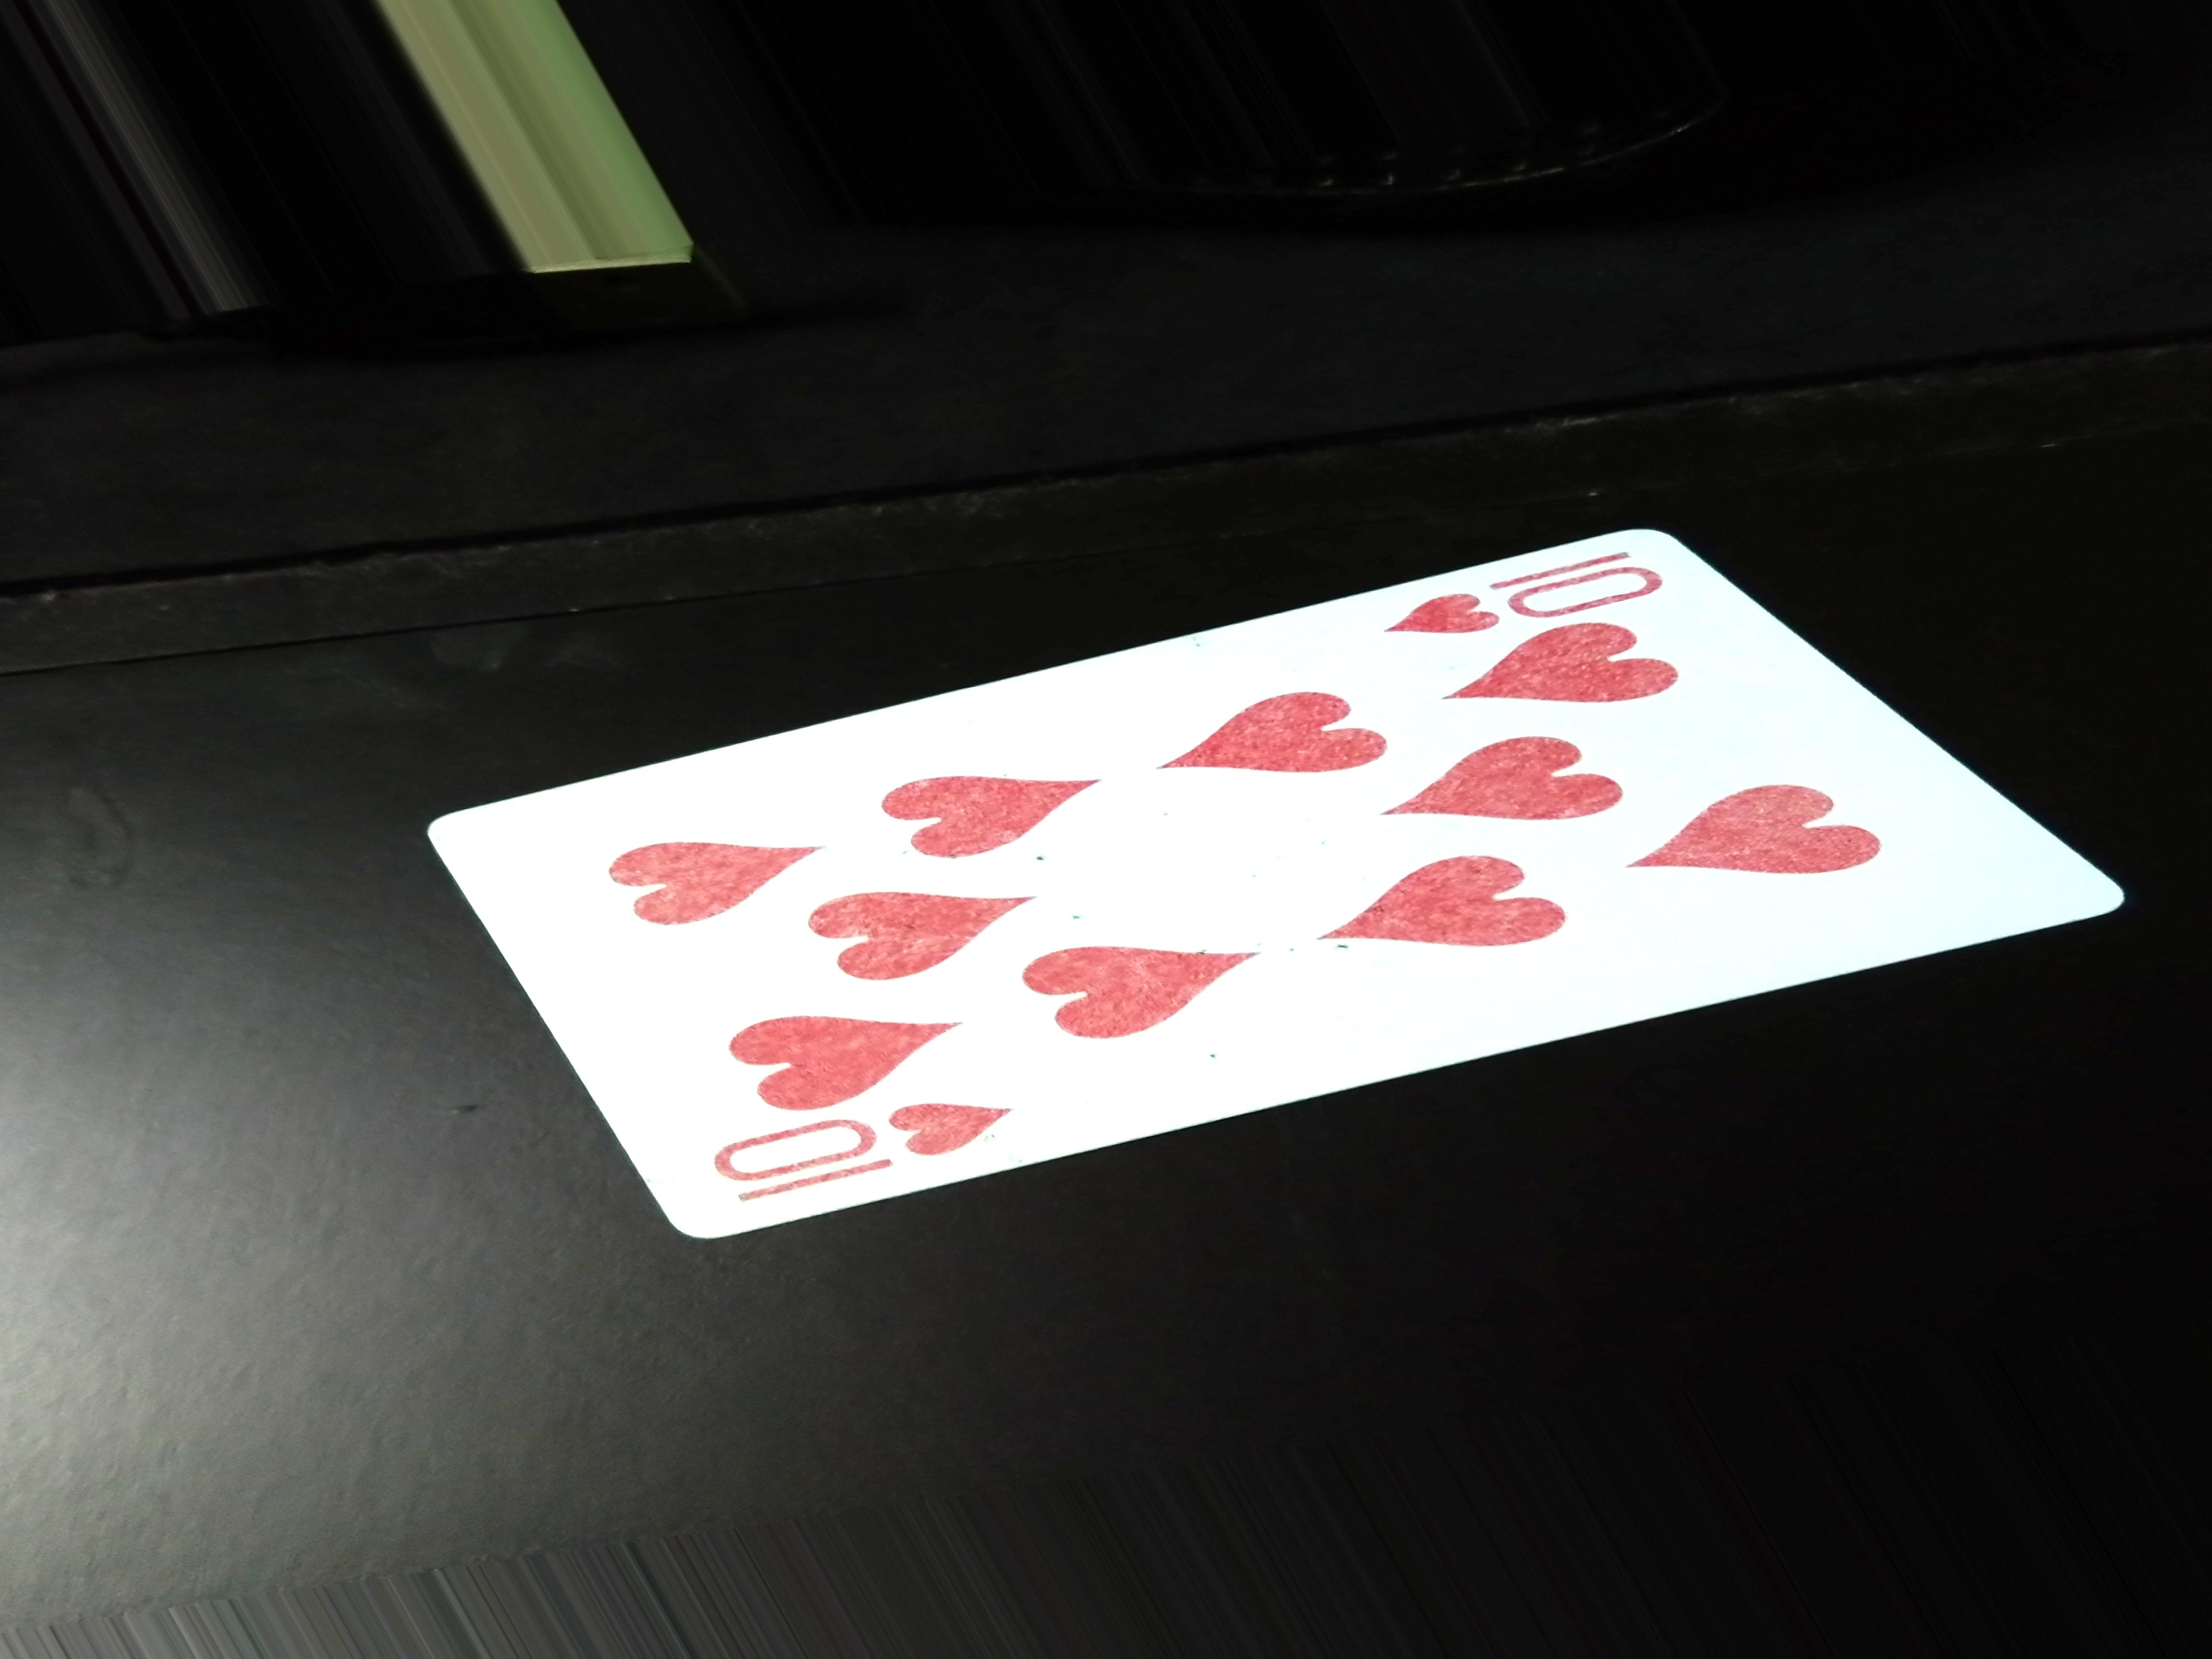10H: (700, 1100, 1019, 1216)
